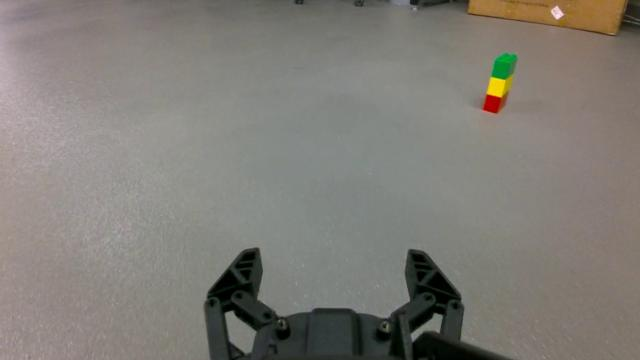lego: (482, 50, 518, 115)
